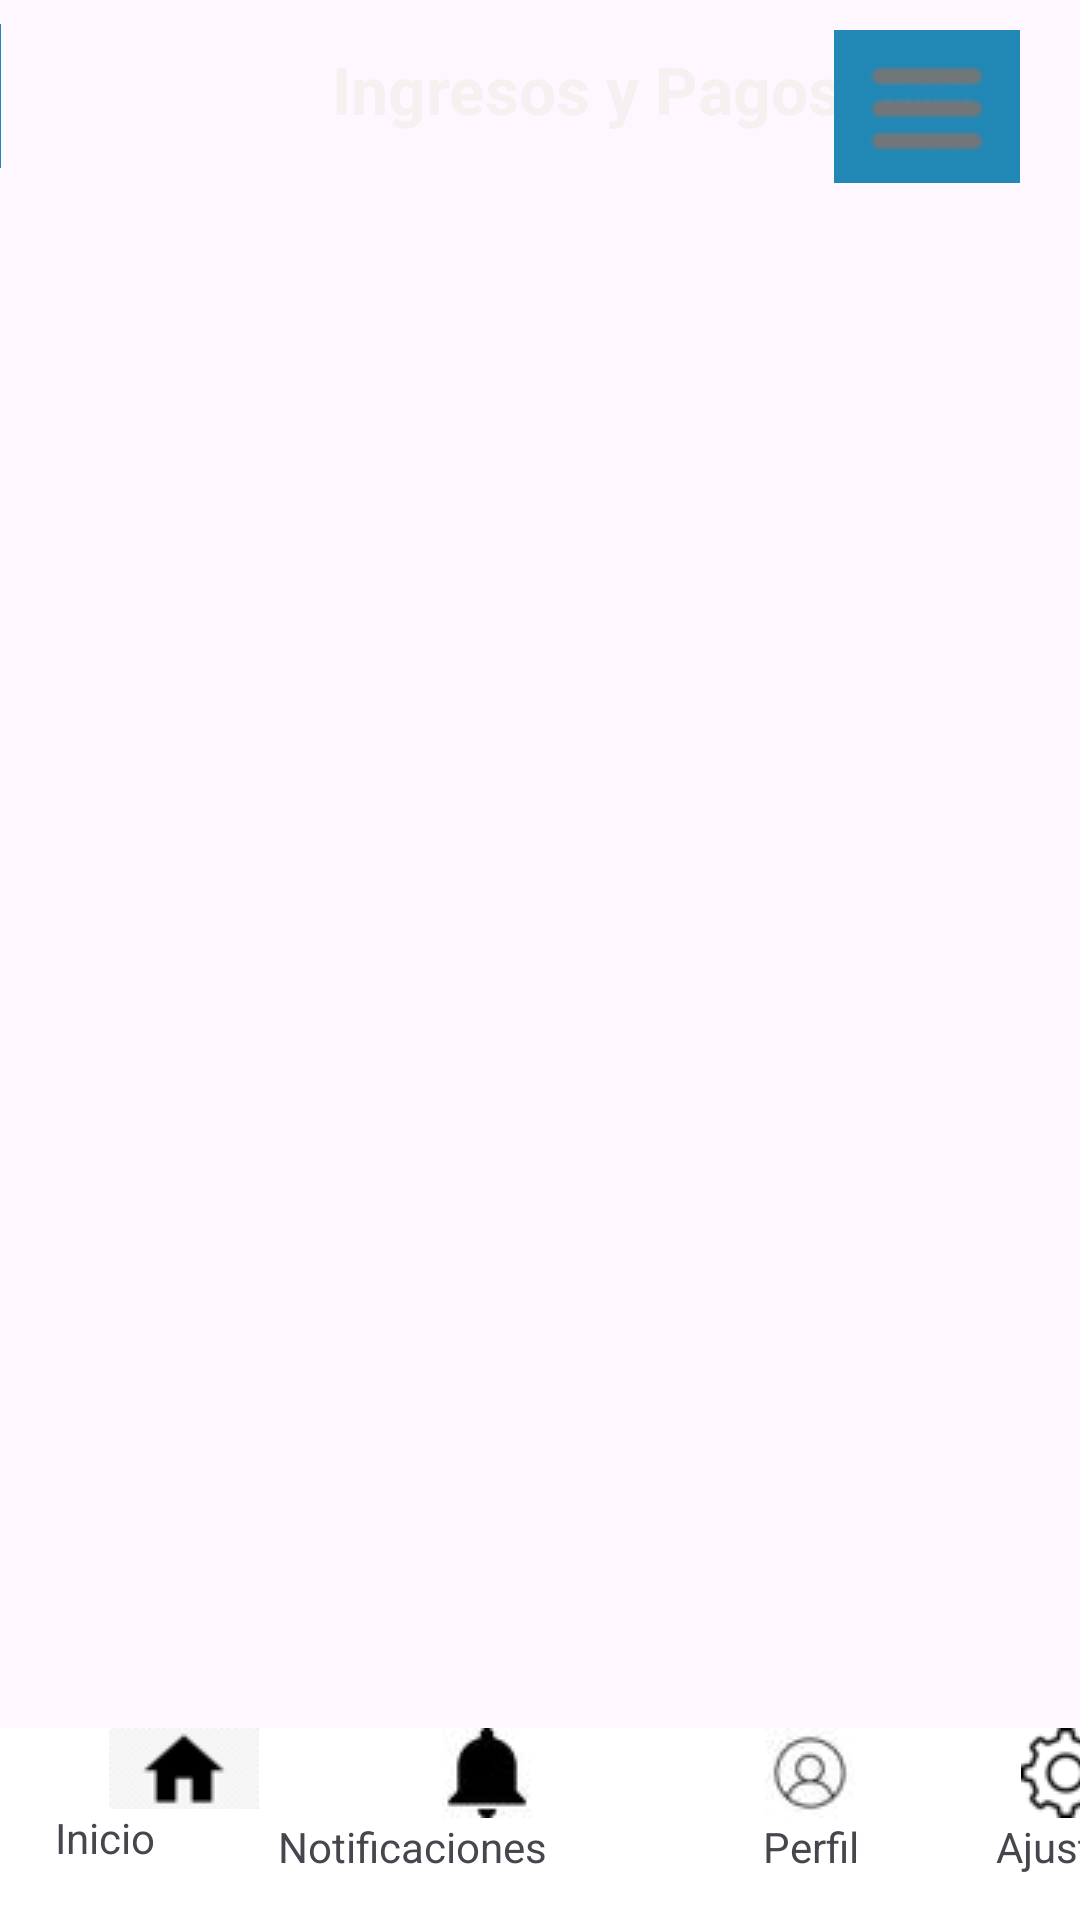

Locate icon controls on the screen. Image size 1080px x 1920px, boxes as Rect(x1, y1, x2, y2).
menu: Rect(834, 30, 1020, 183)
